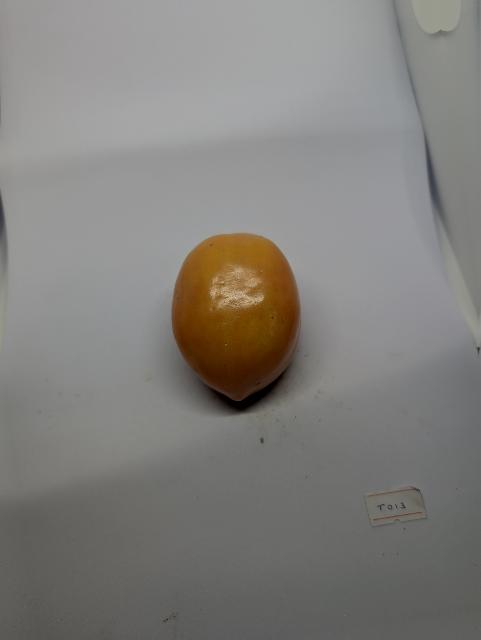turning: (160, 225, 317, 404)
